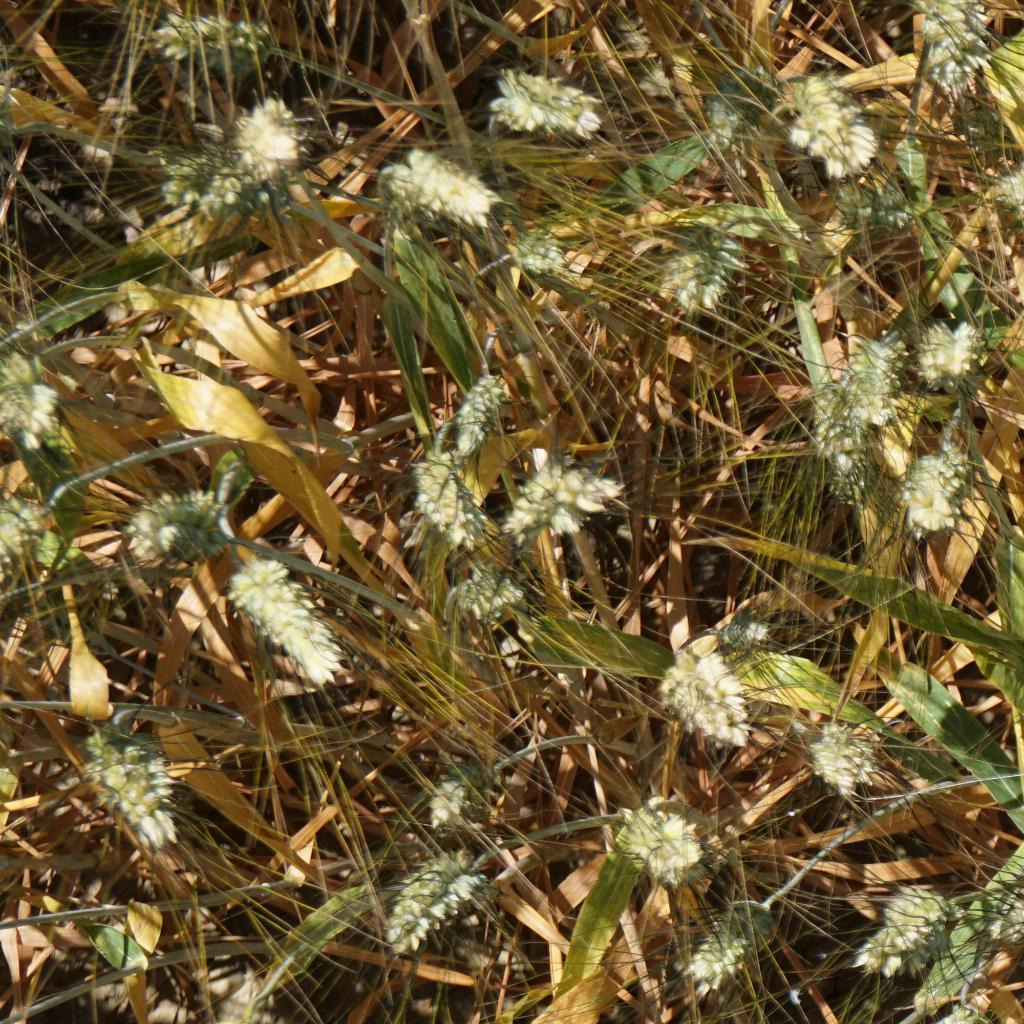0-0: (220, 543, 356, 697), (75, 717, 196, 856), (644, 616, 763, 750), (368, 137, 500, 236), (460, 57, 610, 141), (775, 74, 880, 177), (400, 441, 496, 547), (116, 488, 225, 578), (407, 752, 517, 837), (913, 313, 1004, 413), (381, 844, 482, 927), (809, 352, 878, 472), (789, 689, 872, 787), (238, 94, 328, 181), (610, 797, 702, 882), (514, 454, 614, 531), (665, 226, 750, 314), (902, 439, 984, 525), (444, 555, 537, 628), (924, 0, 1012, 72), (868, 878, 931, 976), (159, 151, 244, 222), (691, 598, 803, 650), (444, 364, 518, 442), (679, 917, 756, 990), (846, 326, 902, 423), (0, 365, 58, 456), (149, 15, 265, 57), (509, 216, 574, 283), (0, 511, 62, 579), (988, 153, 1024, 236), (982, 876, 1024, 939), (911, 1000, 982, 1024), (179, 1004, 263, 1024)
